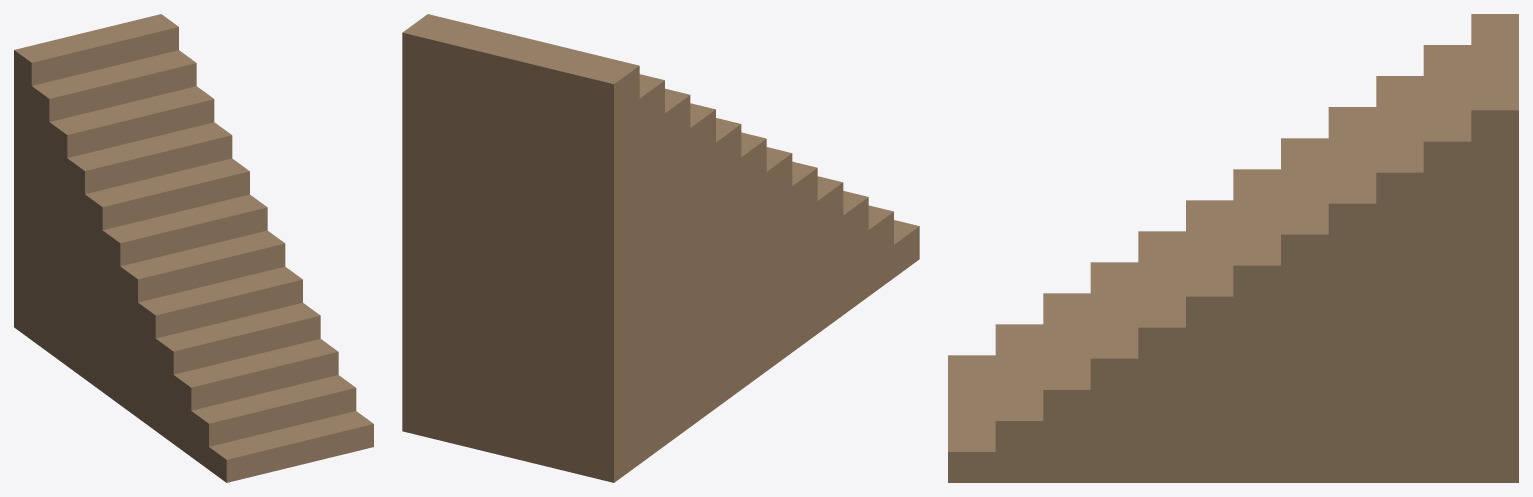
File: straight_stairs.glb
3 views of the same model, side by side, from view 1: azimuth 30°, elevation 25°; view 2: azimuth 150°, elevation 25°; view 3: azimuth 270°, elevation 25° (orthographic). The views are drawn at different scales.
Visible parts, largest first — view 1: world; view 2: world; view 3: world.
Part boxes in pixels (box(x1,y1,x2,y2)): world: box(14, 14, 373, 482); world: box(402, 14, 919, 482); world: box(948, 14, 1518, 482).
Size of the model in its own units: 1.2 by 2.16 by 3.
